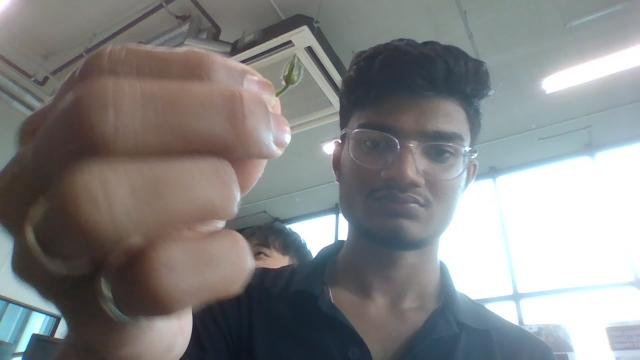Fruit Bud: (282, 54, 300, 85)
